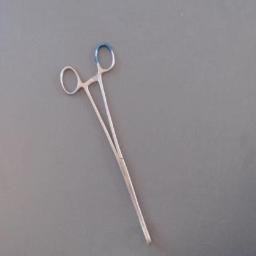Sponge Forceps: (56, 38, 158, 250)
